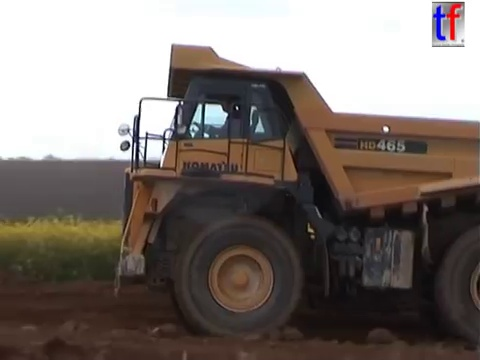truck: (110, 41, 479, 351)
